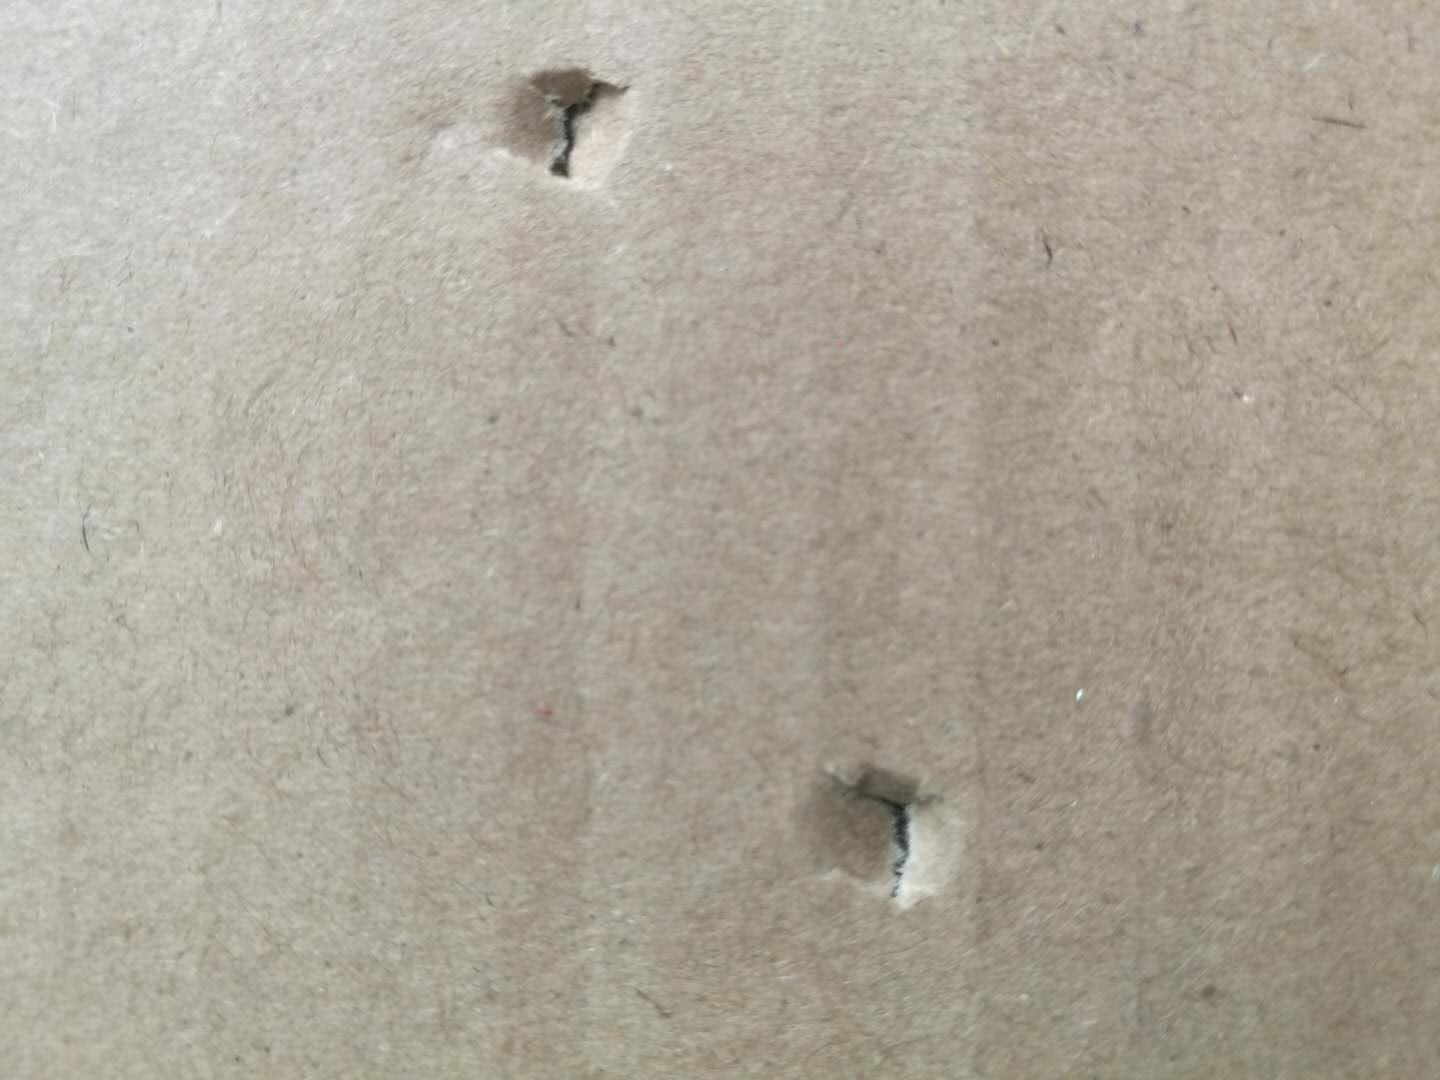defect: (397, 34, 677, 228), (770, 728, 1009, 929)
